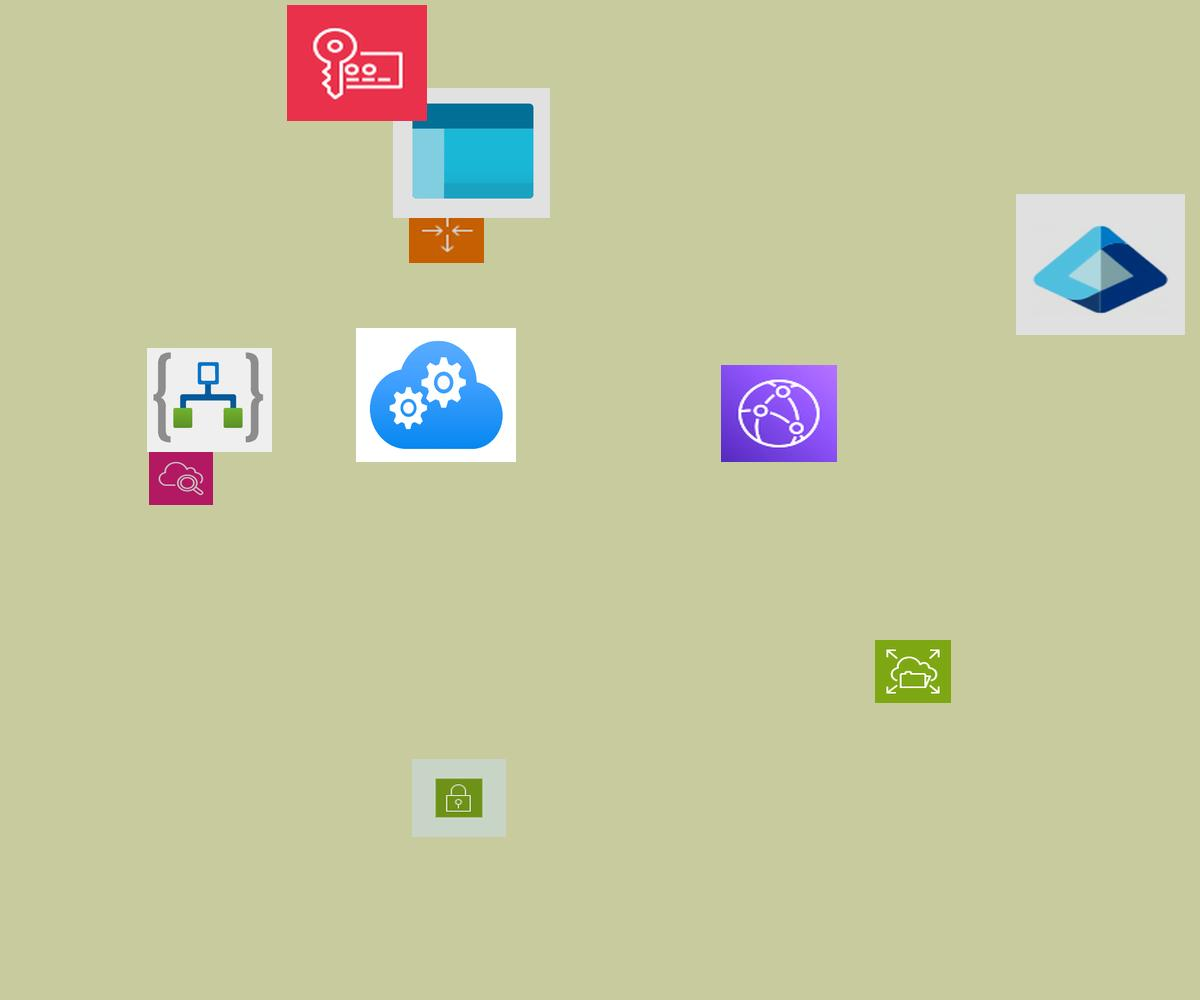AWS-CloudFront: (721, 365, 837, 462)
AWS-CloudWatch: (149, 452, 213, 505)
AWS-EFS: (875, 640, 951, 703)
AWS-Key-Management-Service: (287, 5, 427, 121)
AWS-Public-subnet: (412, 759, 506, 837)
AWS-Scaling-group: (409, 200, 484, 263)
Azure_cloud_services: (356, 328, 516, 462)
Azure_integration-204-Logic-Apps: (147, 348, 272, 452)
Azure_management-portal: (393, 88, 550, 218)
Azure_microsoft_entra: (1016, 194, 1185, 335)
